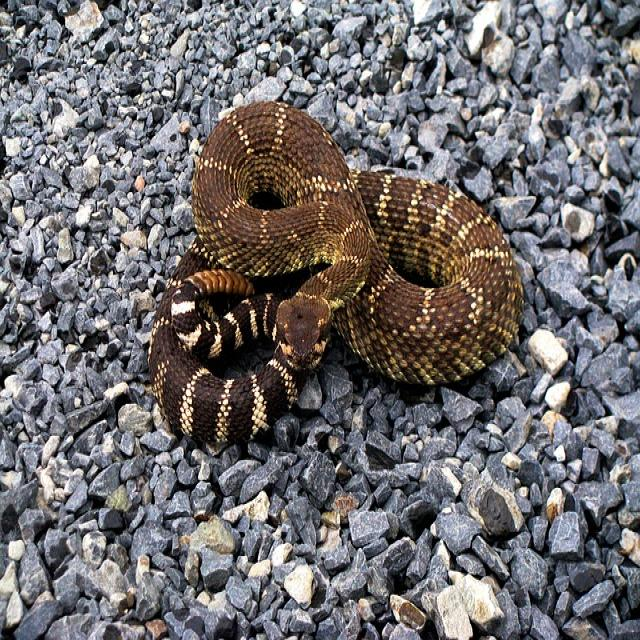Carnivorous: (148, 101, 525, 451)
